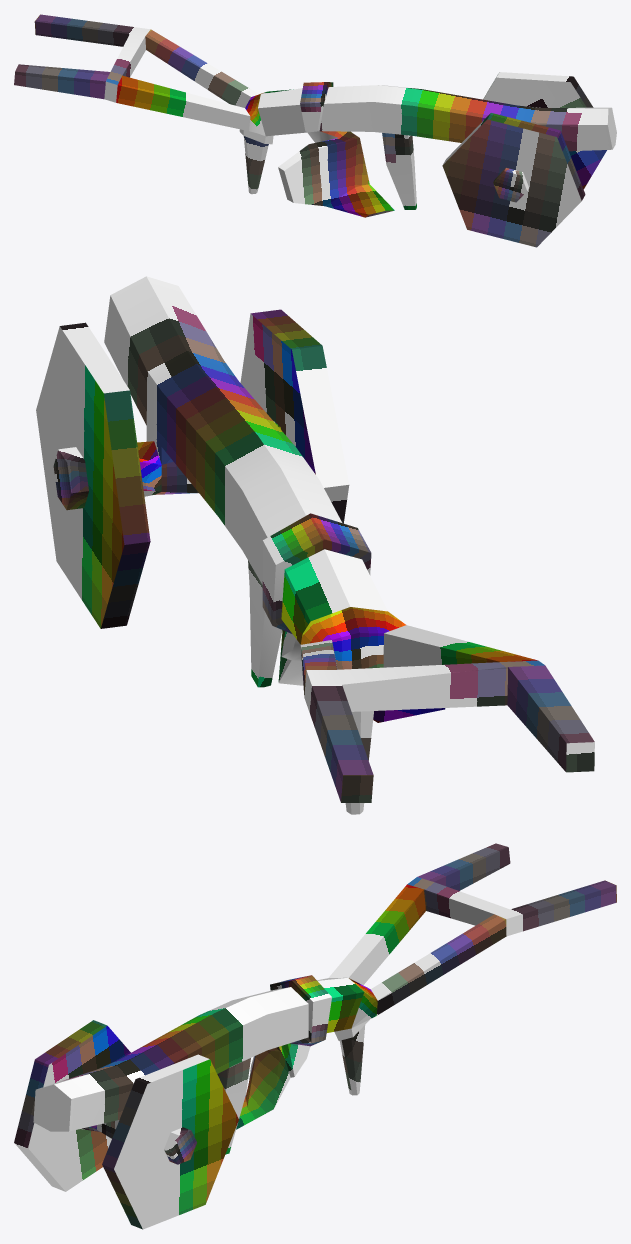
File: C_HandPlow.fbx
3 views of the same model, one above another, from view 1: azimuth 30°, elevation 25°; view 2: azimuth 150°, elevation 25°; view 3: azimuth 270°, elevation 25° (orthographic). The views are drawn at different scales.
Parts seen in each view (by area): view 1: C_HandPlow; view 2: C_HandPlow; view 3: C_HandPlow.
Boxes of the visible parts, bbox=[...] form: C_HandPlow: bbox=[14, 14, 616, 247]; C_HandPlow: bbox=[36, 276, 594, 814]; C_HandPlow: bbox=[14, 843, 616, 1229].
Bounding box in the file's own units: 143 × 39.56 × 141.
